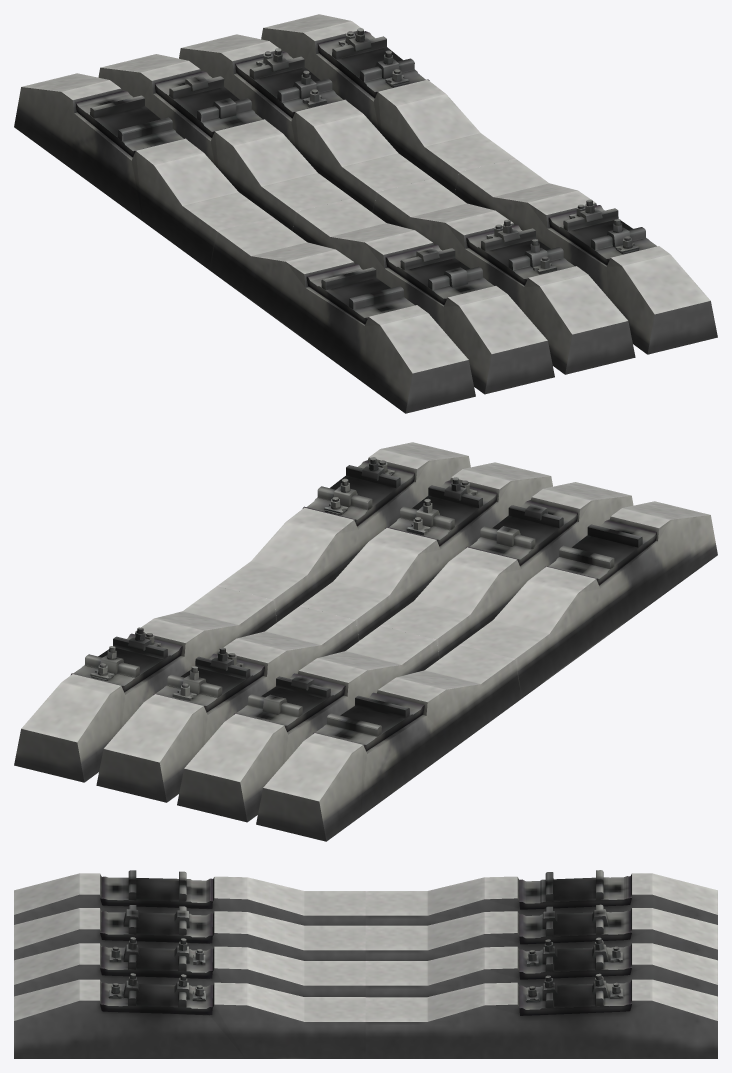
The model's file is shpaly_nabor01.fbx.
3 views of the same model, one above another, from view 1: azimuth 30°, elevation 25°; view 2: azimuth 150°, elevation 25°; view 3: azimuth 270°, elevation 25° (orthographic). The views are drawn at different scales.
Parts seen in each view (by area): view 1: shpala278f, shpala1434f, shpala1078f, shpala486f; view 2: shpala278f, shpala1434f, shpala1078f, shpala486f; view 3: shpala1434f, shpala1078f, shpala486f, shpala278f.
Boxes of the visible parts, x1,y1,x2,y2 form: shpala278f: [14, 73, 475, 413]; shpala1434f: [261, 14, 717, 354]; shpala1078f: [179, 34, 635, 374]; shpala486f: [98, 54, 554, 394]; shpala278f: [256, 501, 717, 841]; shpala1434f: [14, 442, 470, 782]; shpala1078f: [96, 462, 552, 802]; shpala486f: [177, 482, 633, 822]; shpala1434f: [14, 973, 717, 1058]; shpala1078f: [14, 937, 717, 997]; shpala486f: [14, 904, 717, 960]; shpala278f: [14, 870, 717, 925].
Bounding box in the file's own units: 1.26 × 0.3009 × 2.74.
